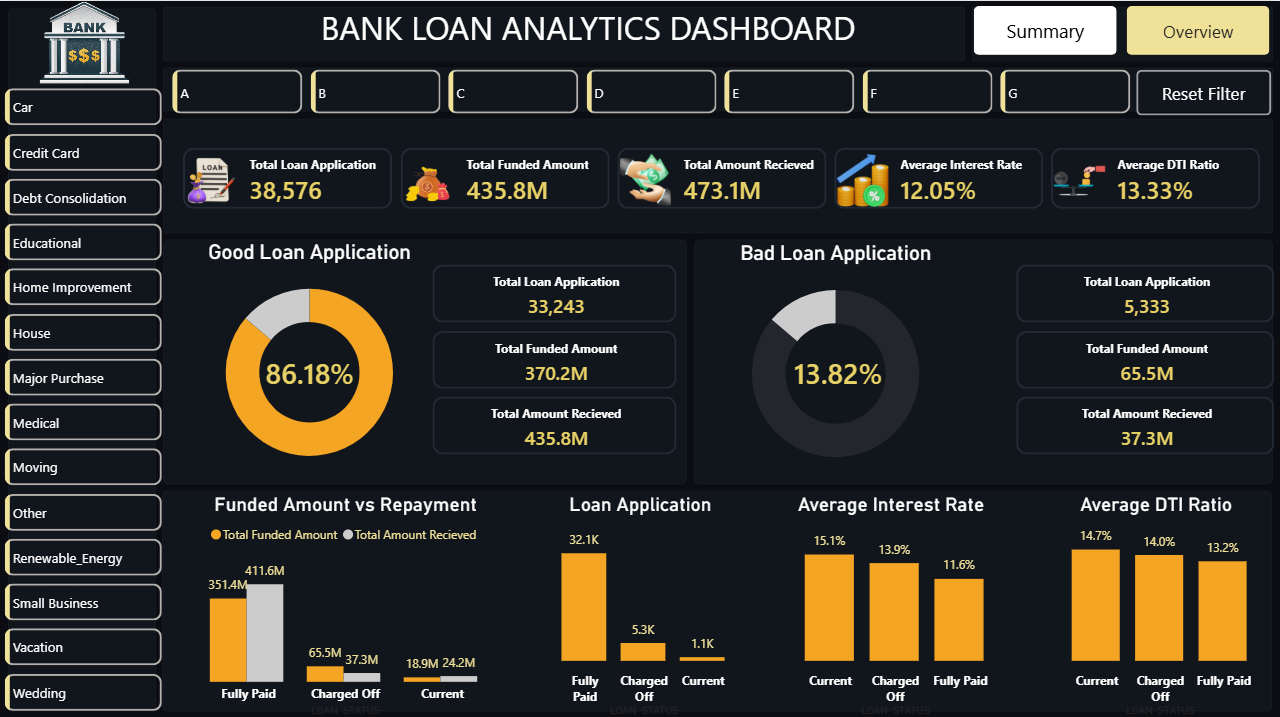

The dashboard page shown, as its layout file describes it:
{"tool":"powerbi","page":{"name":"Summary","canvas":[1280,720],"ordinal":0},"visuals":[{"type":"cardVisual","fields":{"Data":["financial_loan.Total Loan Application","financial_loan.Total Funded Amount","financial_loan.Total Amount Recieved","financial_loan.Average Interest Rate","financial_loan.Average DTI Rate"]},"box":[166.5,130.3,1113.5,95.3],"z":0},{"type":"donutChart","title":"Good Loan Application","fields":{"Category":["financial_loan.Good_vs_Bad_Loan"],"Y":["financial_loan.Total Loan Application"]},"box":[166.2,238.5,286.7,242.3],"z":1000},{"type":"donutChart","title":"Bad Loan Application","fields":{"Category":["financial_loan.Good_vs_Bad_Loan"],"Y":["financial_loan.Total Loan Application"]},"box":[697.7,239.8,276.6,242.3],"z":2000},{"type":"cardVisual","fields":{"Data":["financial_loan.Good Loan %"]},"box":[220.7,326,177.6,88.8],"z":3000},{"type":"cardVisual","fields":{"Data":["financial_loan.Bad Loan %"]},"box":[765,326,177.6,88.8],"z":4000},{"type":"cardVisual","fields":{"Data":["financial_loan.Total Loan Application","financial_loan.Total Funded Amount","financial_loan.Total Amount Recieved"],"Rows":["financial_loan.Good_vs_Bad_Loan"]},"box":[381.8,238.5,300.7,242.3],"z":5000},{"type":"cardVisual","fields":{"Data":["financial_loan.Total Loan Application","financial_loan.Total Funded Amount","financial_loan.Total Amount Recieved"],"Rows":["financial_loan.Good_vs_Bad_Loan"]},"box":[965.4,238.5,314.6,242.3],"z":6000},{"type":"clusteredColumnChart","title":"Funded Amount vs Repayment","fields":{"Category":["financial_loan.LOAN_STATUS"],"Y":["financial_loan.Total Funded Amount","financial_loan.Total Amount Recieved"]},"box":[166.2,492.2,359,228.3],"z":7000},{"type":"clusteredColumnChart","title":"Loan Application","fields":{"Category":["financial_loan.LOAN_STATUS"],"Y":["financial_loan.Total Loan Application"]},"box":[525.2,492.2,230.9,228.3],"z":8000},{"type":"clusteredColumnChart","title":"Average Interest Rate","fields":{"Category":["financial_loan.LOAN_STATUS"],"Y":["financial_loan.Average Interest Rate"]},"box":[765,492.2,252.4,228.3],"z":9000},{"type":"clusteredColumnChart","title":"Average DTI Ratio","fields":{"Category":["financial_loan.LOAN_STATUS"],"Y":["financial_loan.Average DTI Ratio"]},"box":[1032.6,492.2,247.4,228.3],"z":10000},{"type":"image","box":[1.3,0,166.2,82.5],"z":11000},{"type":"advancedSlicerVisual","fields":{"Values":["financial_loan.PURPOSE"]},"box":[0,82.5,167.5,638.1],"z":12000},{"type":"advancedSlicerVisual","fields":{"Values":["financial_loan.GRADE"]},"box":[167.7,63.9,968.8,54.3],"z":13000},{"type":"actionButton","title":"Reset Filter","box":[1136.5,68.8,135.1,45.8],"z":14000},{"type":"textbox","title":"Bank Loan Analytics Dashboard","box":[167.7,0,797.5,63.9],"z":15000},{"type":"pageNavigator","box":[973.6,4.8,298,49.5],"z":16000}]}

Visuals, with their boxes in screenshot pixels (x1, y1, x2, y2), scaled from the page's 1280x720 canvas onto the 1280x717 screenshot:
cardVisual - financial_loan.Total Loan Application x financial_loan.Total Funded Amount: 166, 130, 1279, 225
"Good Loan Application" donutChart: 166, 238, 453, 479
"Bad Loan Application" donutChart: 698, 239, 974, 480
cardVisual - financial_loan.Good Loan %: 221, 325, 398, 413
cardVisual - financial_loan.Bad Loan %: 765, 325, 943, 413
cardVisual - financial_loan.Total Loan Application x financial_loan.Total Funded Amount: 382, 238, 682, 479
cardVisual - financial_loan.Total Loan Application x financial_loan.Total Funded Amount: 965, 238, 1279, 479
"Funded Amount vs Repayment" clusteredColumnChart: 166, 490, 525, 716
"Loan Application" clusteredColumnChart: 525, 490, 756, 716
"Average Interest Rate" clusteredColumnChart: 765, 490, 1017, 716
"Average DTI Ratio" clusteredColumnChart: 1033, 490, 1279, 716
image: 1, 0, 168, 82
advancedSlicerVisual - financial_loan.PURPOSE: 0, 82, 168, 716
advancedSlicerVisual - financial_loan.GRADE: 168, 64, 1136, 118
"Reset Filter" actionButton: 1136, 69, 1272, 114
"Bank Loan Analytics Dashboard" textbox: 168, 0, 965, 64
pageNavigator: 974, 5, 1272, 54
